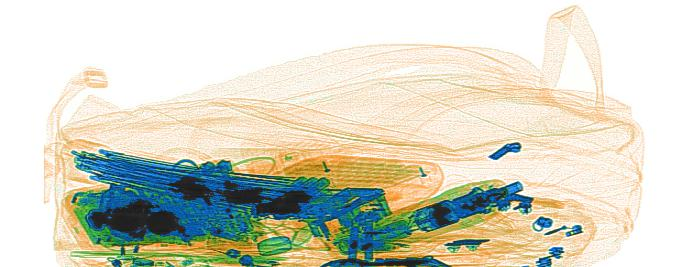battery: (338, 217, 409, 253)
